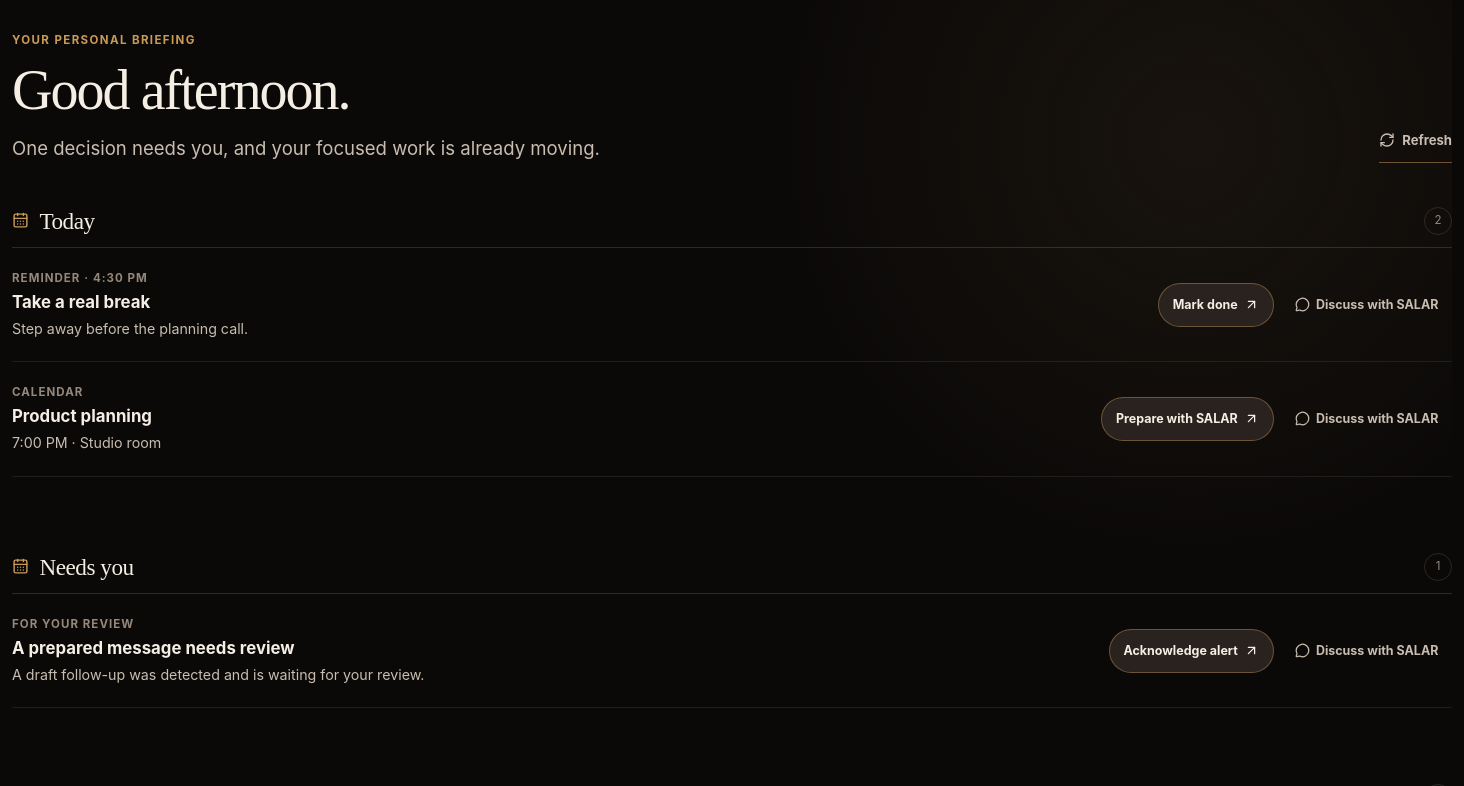
Test: Briefing › announces reminder mutation failure and leaves the action available
Click the button with aria-label "Mark Take a real break done": point(1216, 305) [1158,283,1274,327]
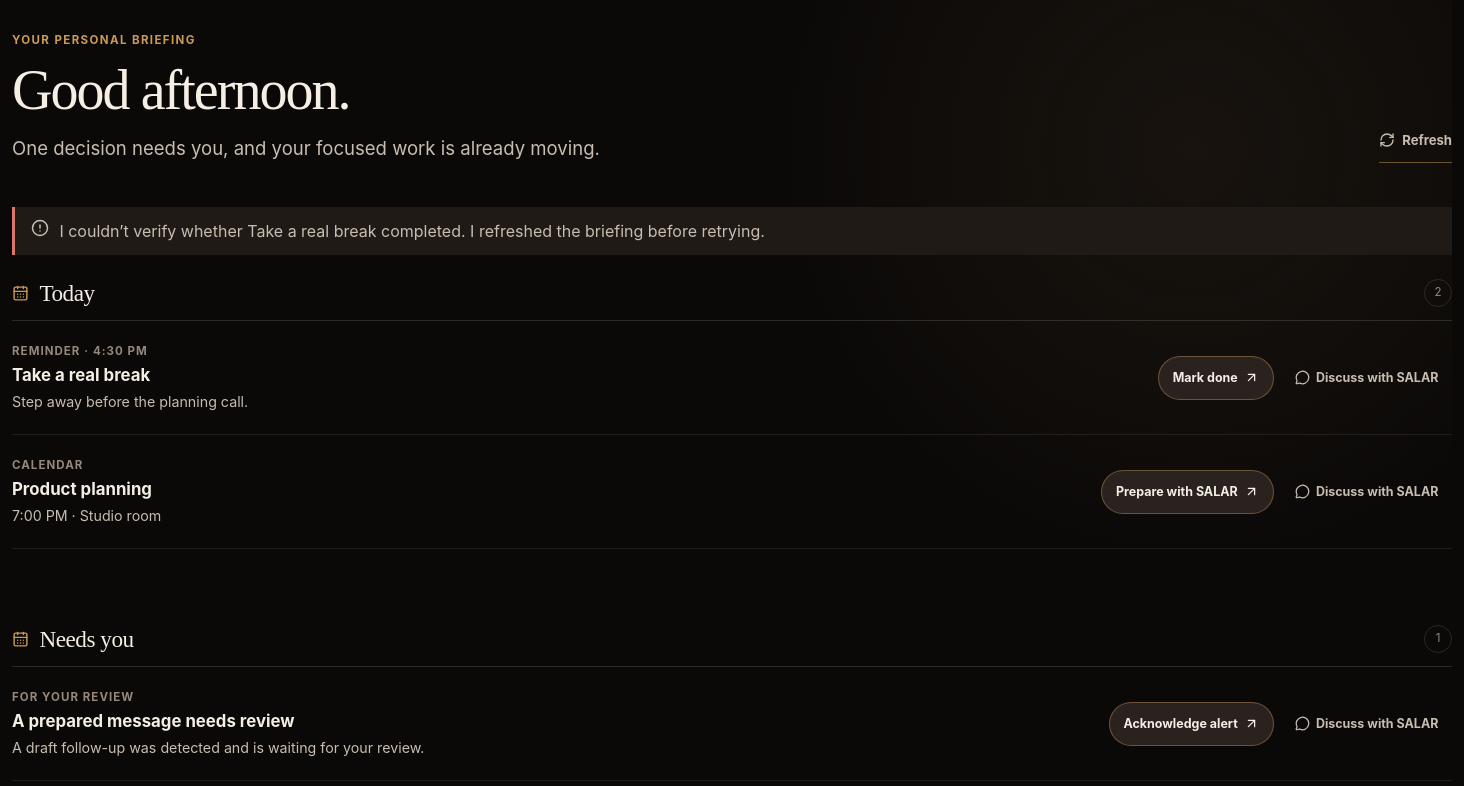
Check: the button with aria-label "Mark Take a real break done" is enabled, box [1158,356,1274,400]
Check: the message shows "I couldn’t verify whether Take a real break completed. I refreshed the briefing before retrying.", box [59,220,765,240]
